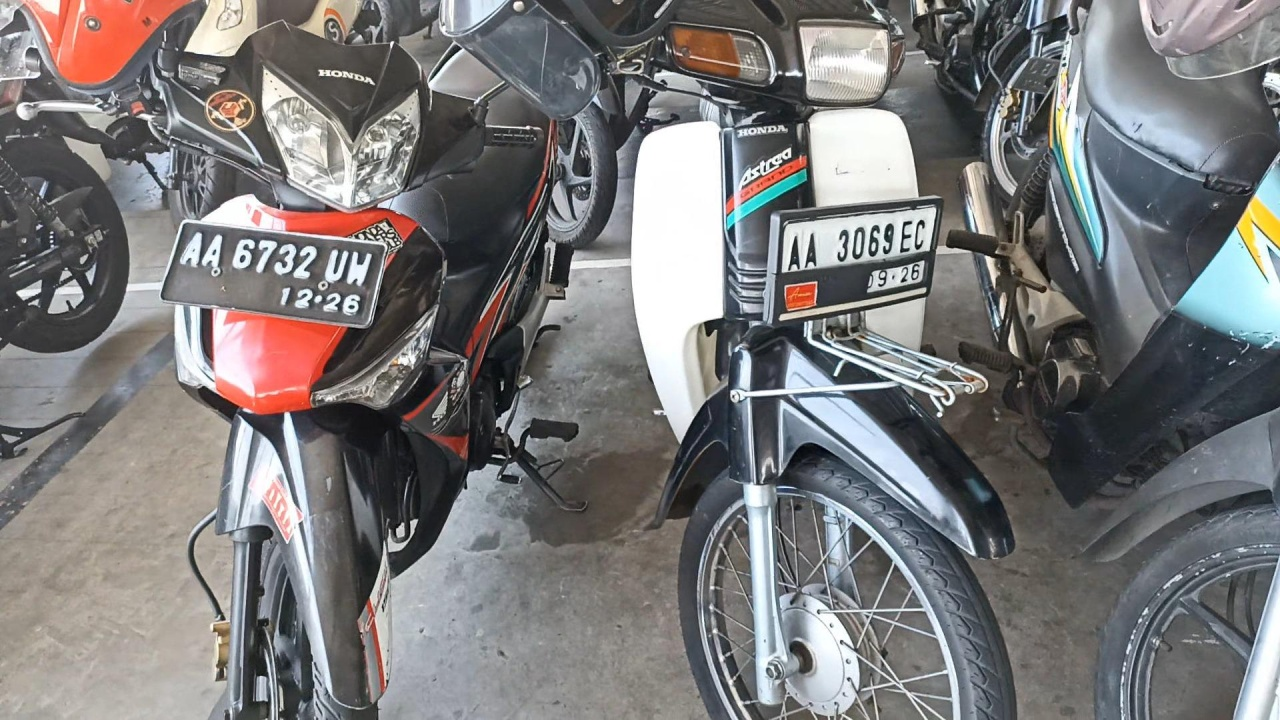plate: (159, 218, 388, 327), (778, 202, 941, 321)
